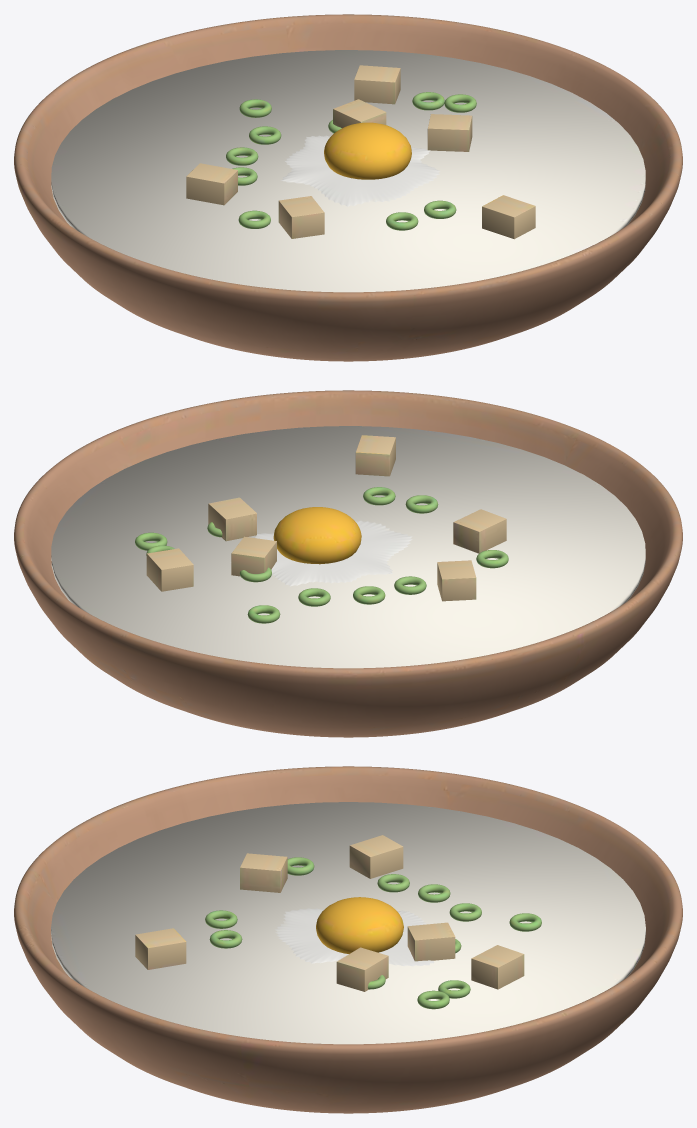
File: changua.glb
The picture shows the model from 3 angles, top to bottom: view 1: azimuth 30°, elevation 25°; view 2: azimuth 150°, elevation 25°; view 3: azimuth 270°, elevation 25°; orthographic projection.
Parts seen in each view (by area): view 1: changua; view 2: changua; view 3: changua.
Boxes of the visible parts, x1=… form: changua: x1=14, y1=14, x2=682, y2=361; changua: x1=14, y1=390, x2=682, y2=737; changua: x1=14, y1=766, x2=682, y2=1113.
Size of the model in its own units: 0.2515 by 0.0606 by 0.2515.
1 material, 1 textured.
